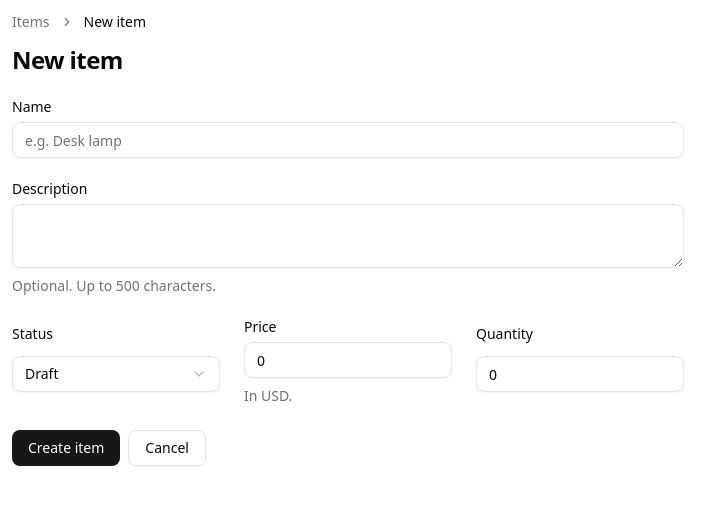
ItemCreatePage › shows the server field error for a duplicate name
The image size is (704, 511).
In the field labelled "Name": coordinates (348, 140) [12,122,684,158], type "Desk lamp"
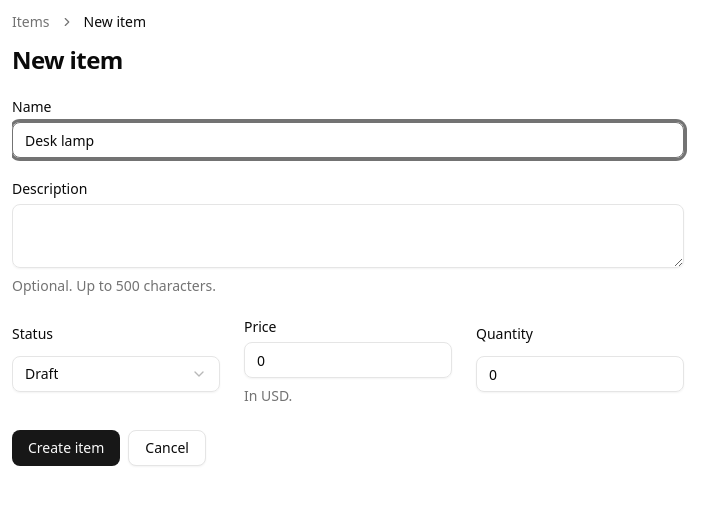
Click the button "Create item": coordinates (66, 448) [12,430,120,466]
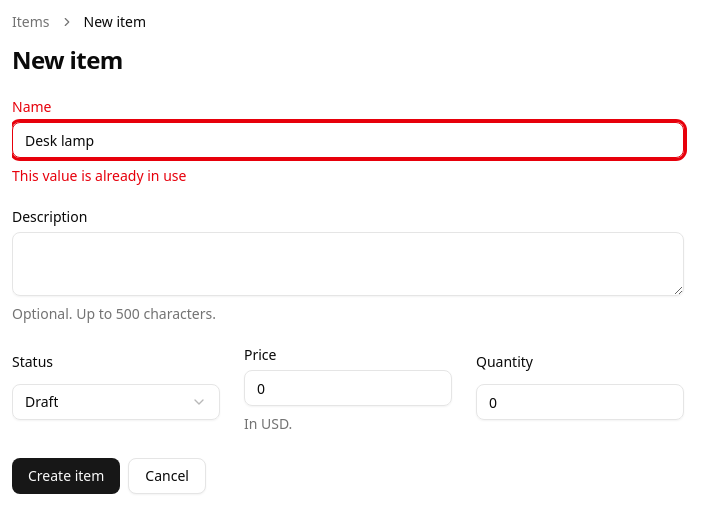
Expected: the text "This value is already in use" is shown, [12,166,186,185]
